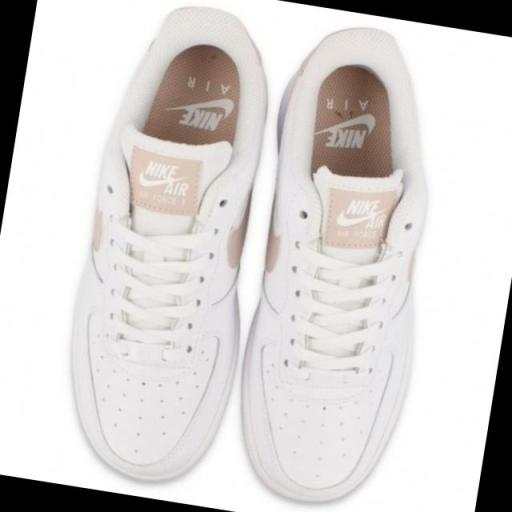Nike: (336, 209, 378, 232), (144, 160, 178, 182)
